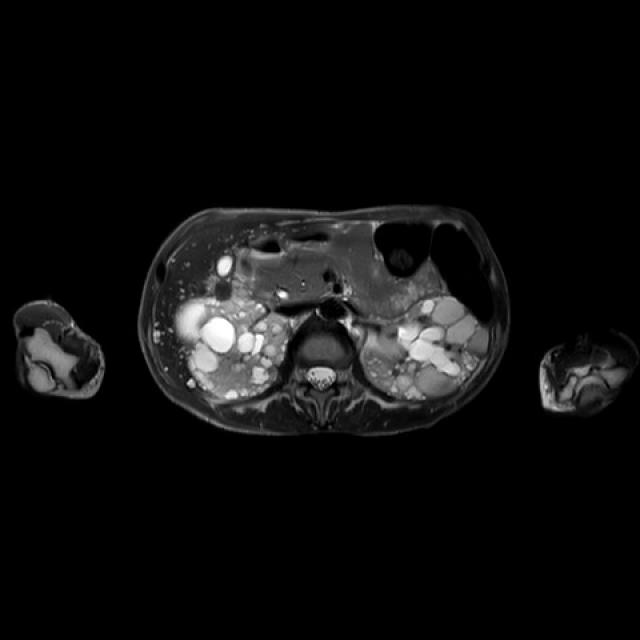sag: (177, 298, 292, 400)
sol: (365, 297, 487, 399)
